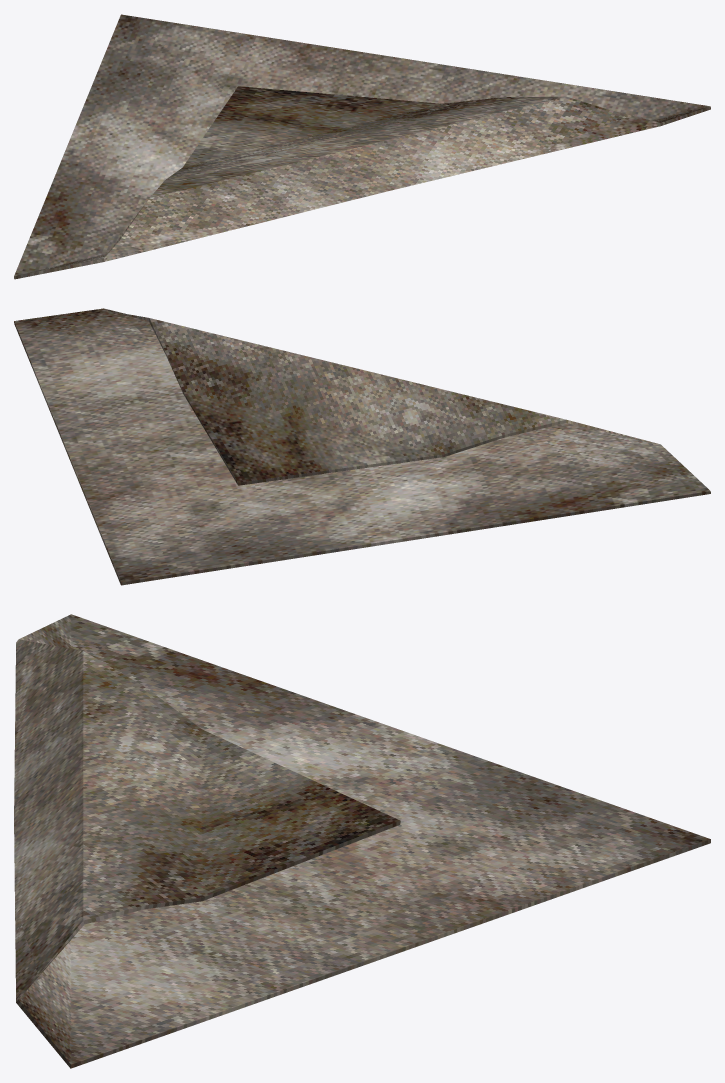
Rendered from Rag.fbx.
The picture shows the model from 3 angles, top to bottom: view 1: azimuth 30°, elevation 25°; view 2: azimuth 150°, elevation 25°; view 3: azimuth 270°, elevation 25°; orthographic projection. The views are drawn at different scales.
Parts seen in each view (by area): view 1: Rag; view 2: Rag; view 3: Rag.
Part boxes in pixels (left/top/right/bottom): Rag: left=14, top=14, right=710, bottom=279; Rag: left=14, top=308, right=710, bottom=585; Rag: left=14, top=614, right=710, bottom=1068.
Bounding box in the file's own units: 52.66 × 3.16 × 34.43.
